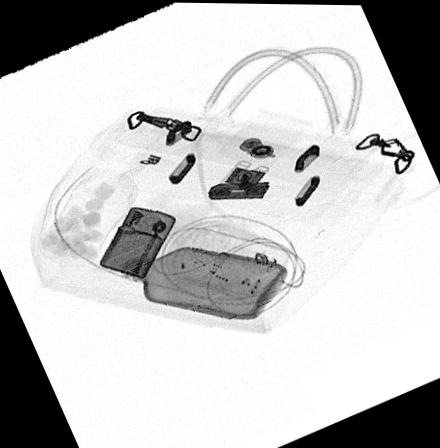Lighter: (98, 206, 175, 278)
